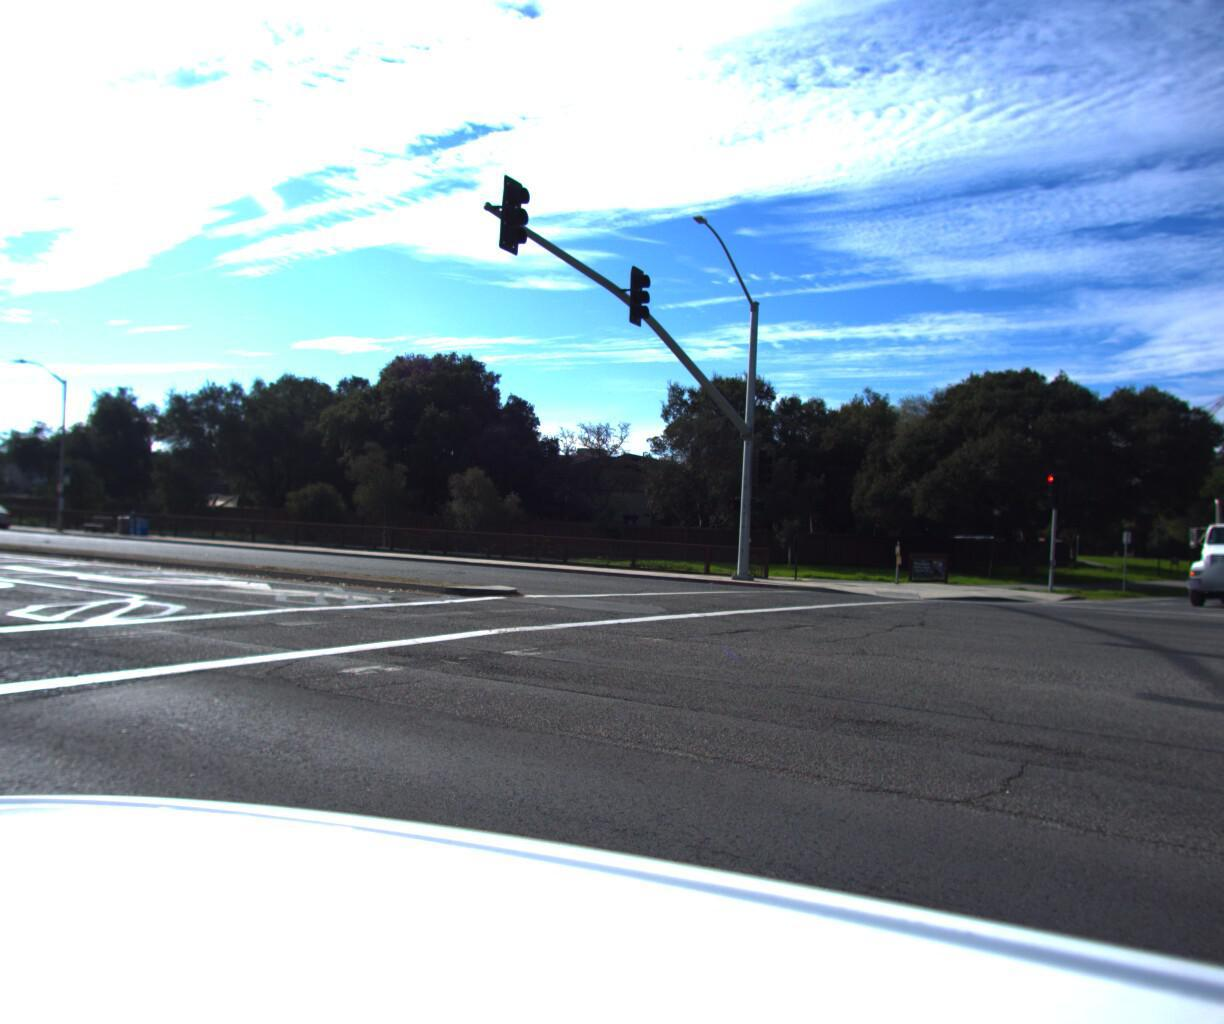car: (932, 526, 1002, 556), (0, 494, 18, 526)
truck: (1170, 503, 1224, 628)
